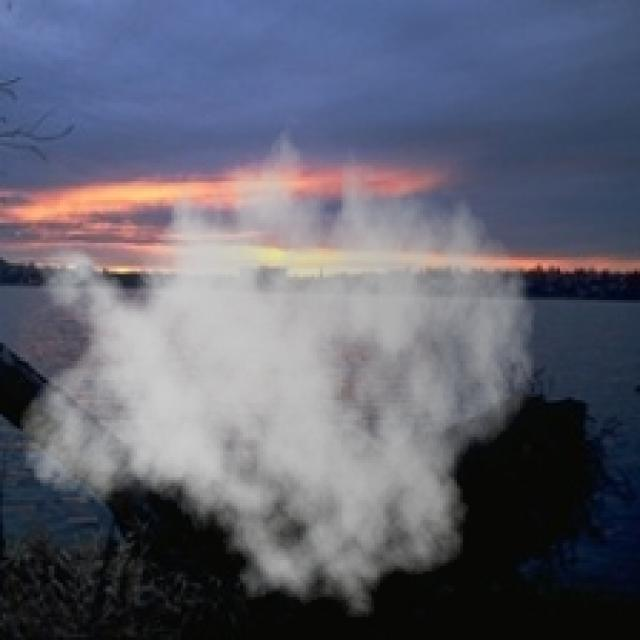smoke: (17, 106, 537, 631)
